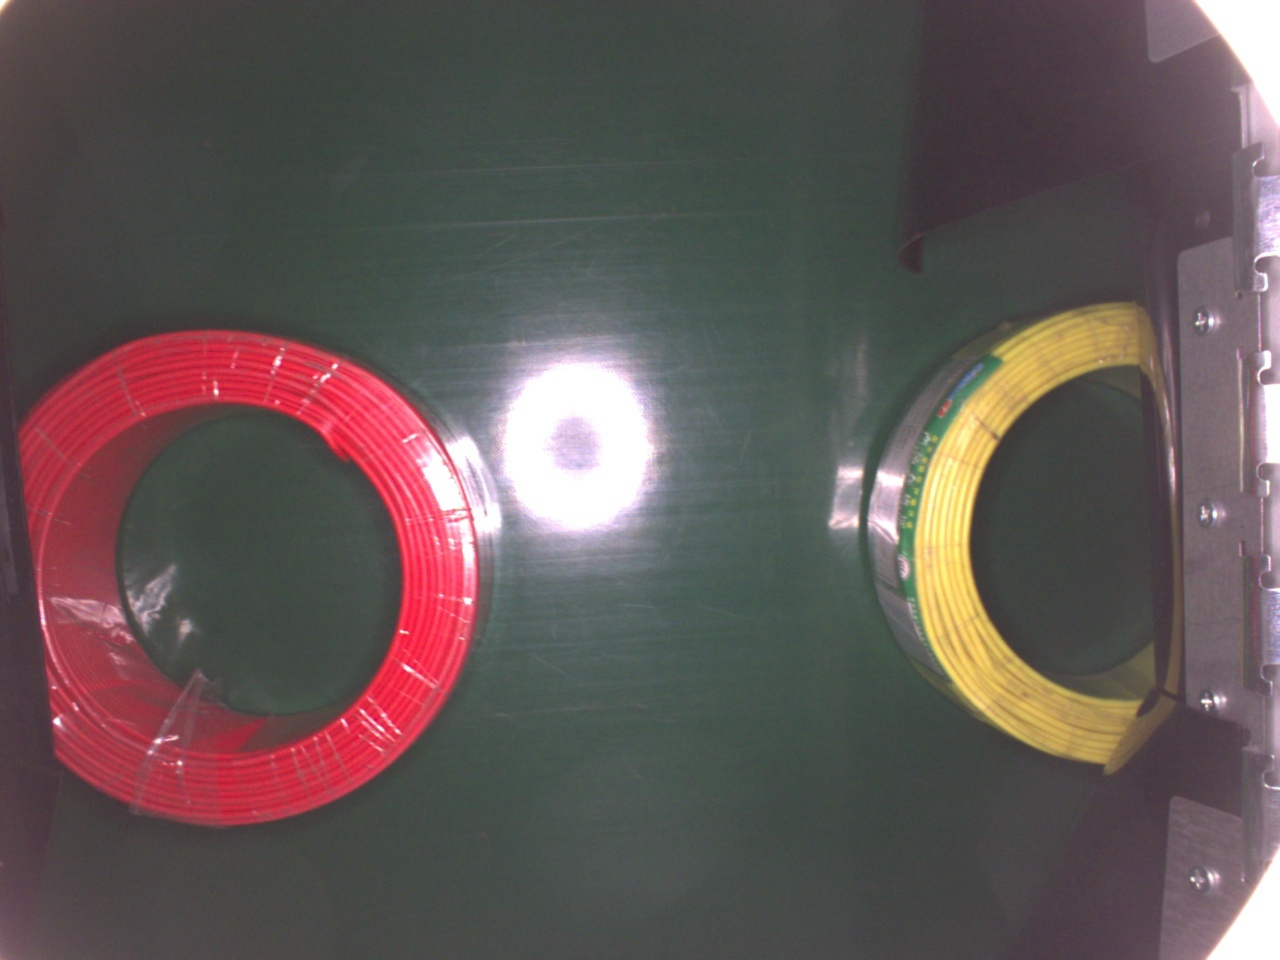red: (3, 329, 503, 830)
yellow: (863, 299, 1144, 771)
